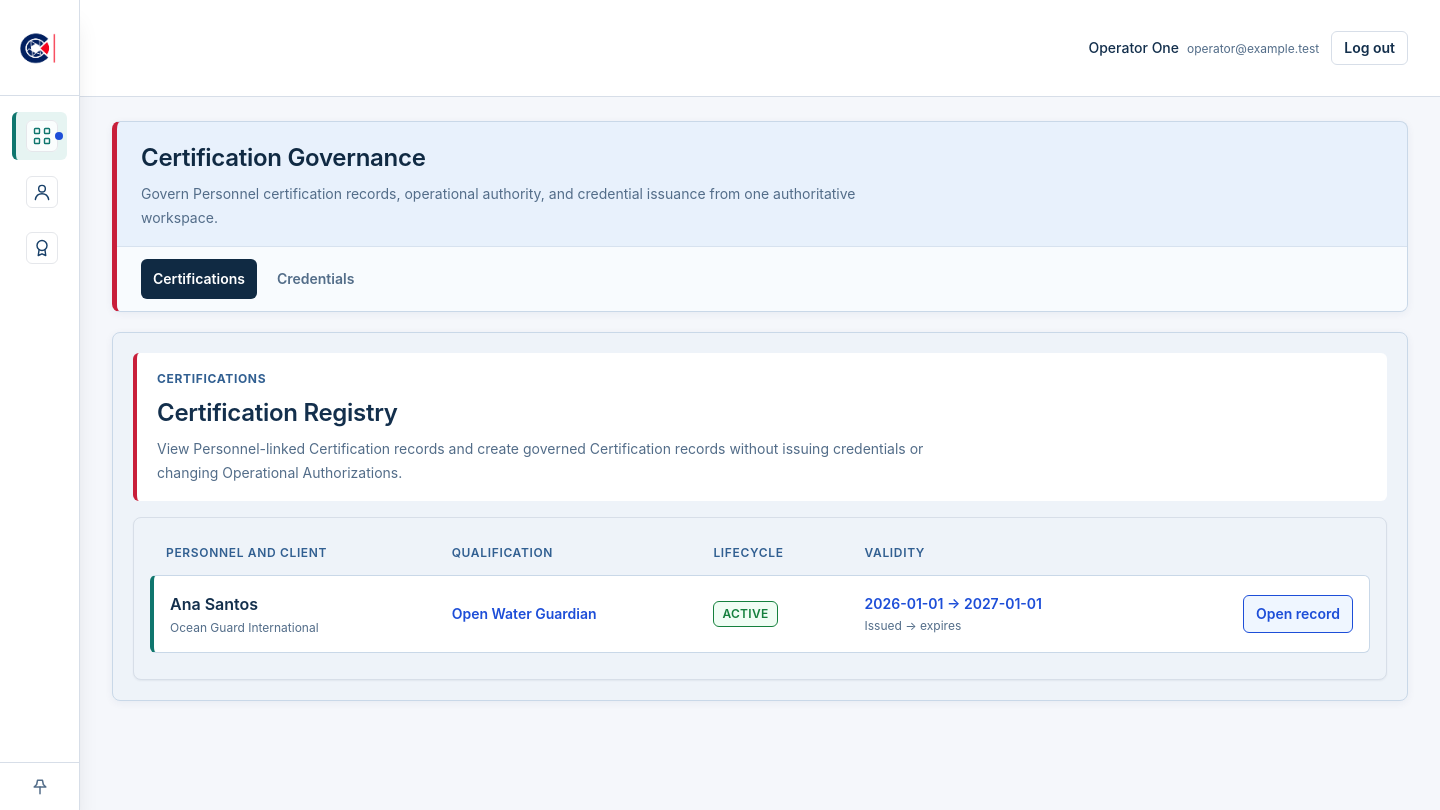
Certification workspace frontend › keeps Operational Authorization creation fail closed for a pending Aurelia Certification
Click the button with aria-label "View Certificate Details" at (1298, 614), box x1=1243 y1=595 x2=1353 y2=633
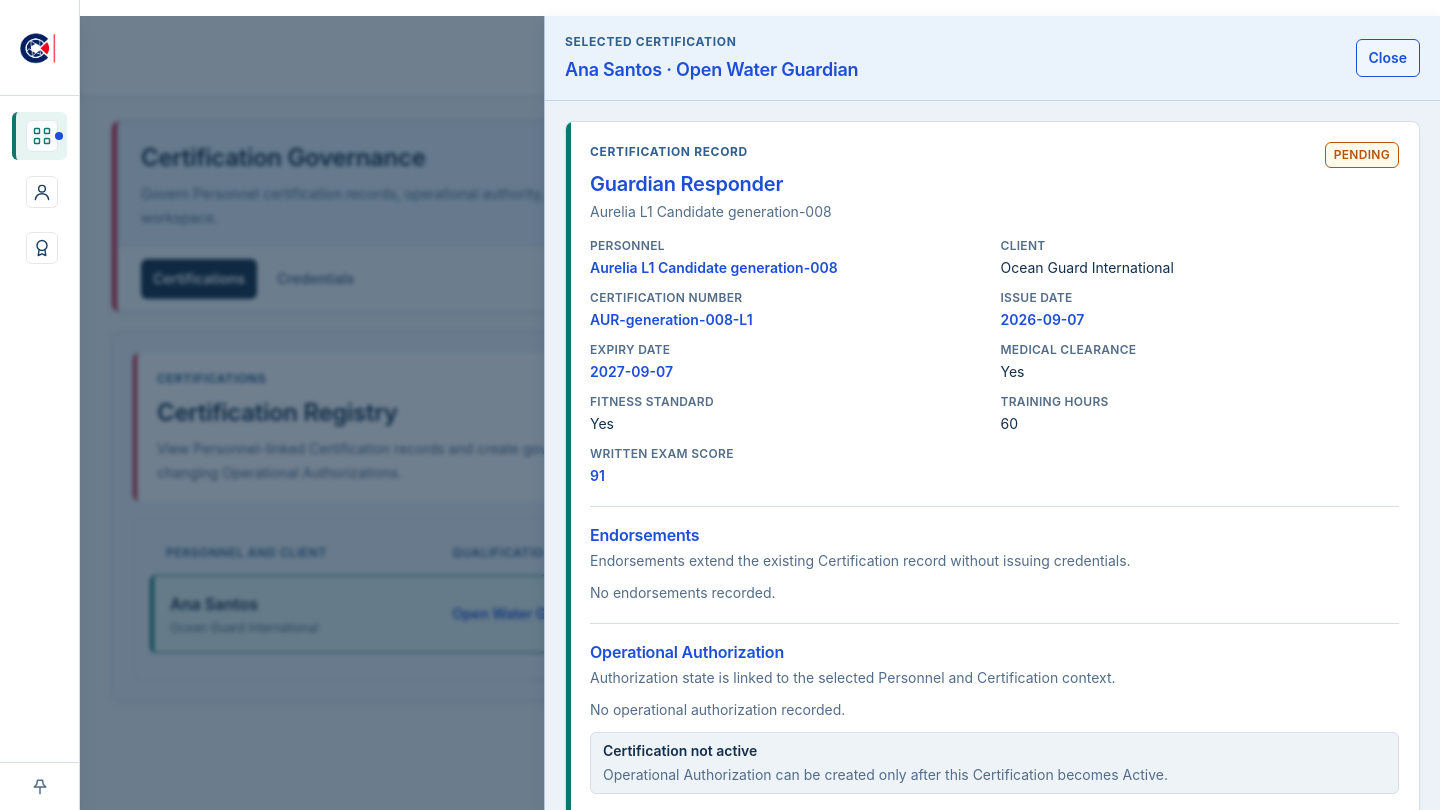
Now the text "Pending" is shown, box x1=1325 y1=142 x2=1399 y2=168
Now the text "Certification not active" is shown, box x1=603 y1=742 x2=757 y2=759
Now the text "Operational Authorization can be created only after this Certification becomes Active." is shown, box x1=603 y1=766 x2=1168 y2=783
